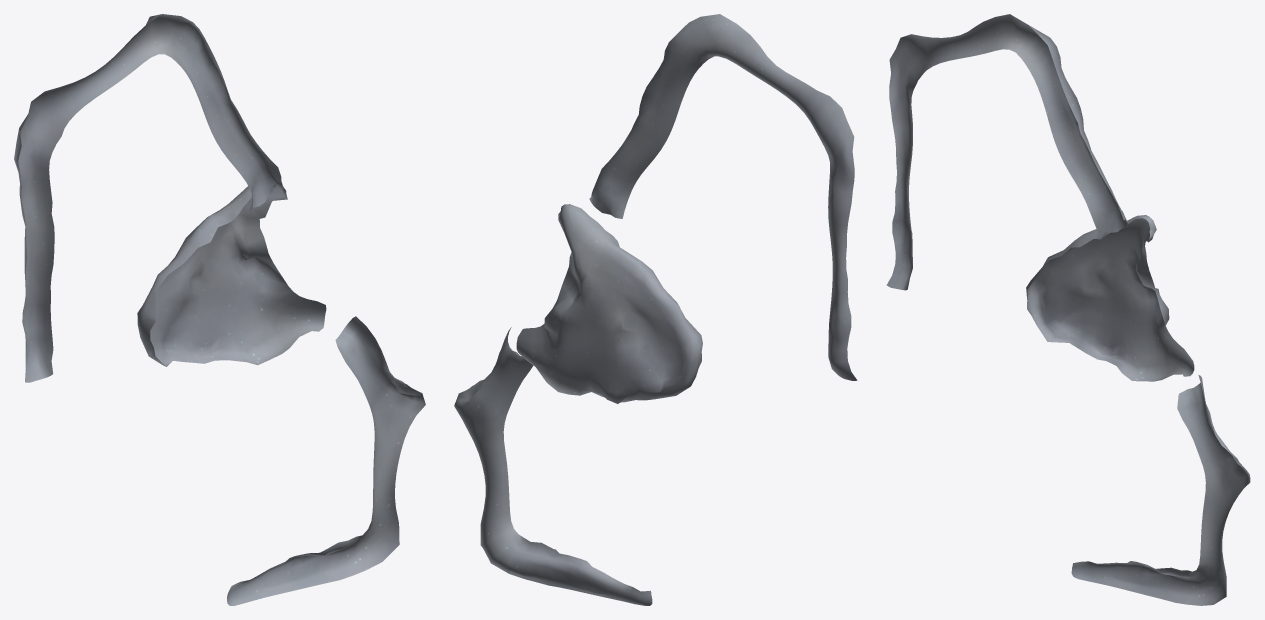
File: pref_sm_beach_winter_center_snow03_lv3.fbx
3 views of the same model, side by side, from view 1: azimuth 30°, elevation 25°; view 2: azimuth 150°, elevation 25°; view 3: azimuth 330°, elevation 25° (orthographic). The views are drawn at different scales.
Visible parts, largest first — view 1: pref_sm_beach_winter_center_snow03_lv3; view 2: pref_sm_beach_winter_center_snow03_lv3; view 3: pref_sm_beach_winter_center_snow03_lv3.
Part boxes in pixels (x1=…): pref_sm_beach_winter_center_snow03_lv3: x1=14, y1=14, x2=425, y2=605; pref_sm_beach_winter_center_snow03_lv3: x1=454, y1=14, x2=857, y2=605; pref_sm_beach_winter_center_snow03_lv3: x1=886, y1=14, x2=1250, y2=605.
Size of the model in its own units: 11.07 by 16.01 by 1.89.
